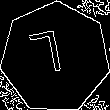L_S: (36, 30, 75, 85)
